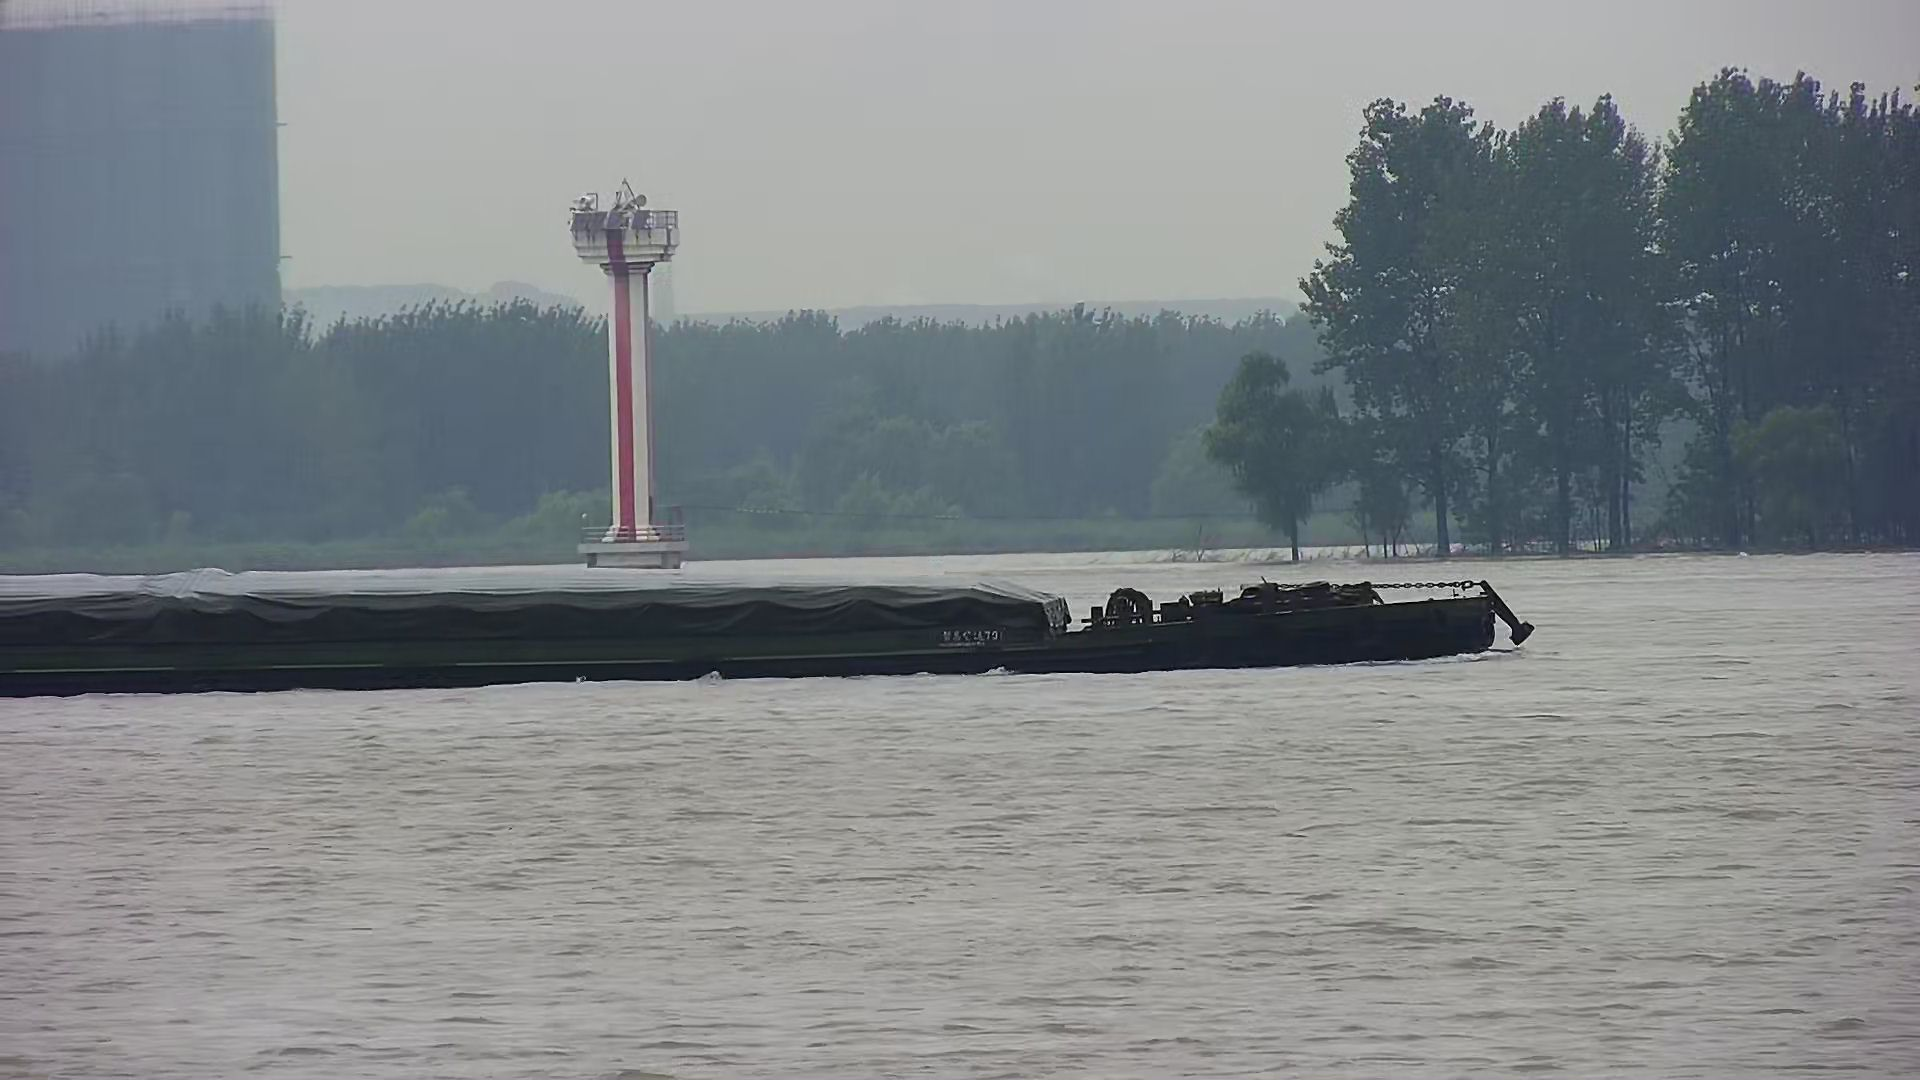platform: (559, 178, 694, 567)
ship: (1, 570, 1535, 702)
tree: (1455, 82, 1691, 559), (1650, 54, 1855, 560), (1308, 92, 1495, 556), (1741, 73, 1920, 551), (1178, 363, 1358, 558)
